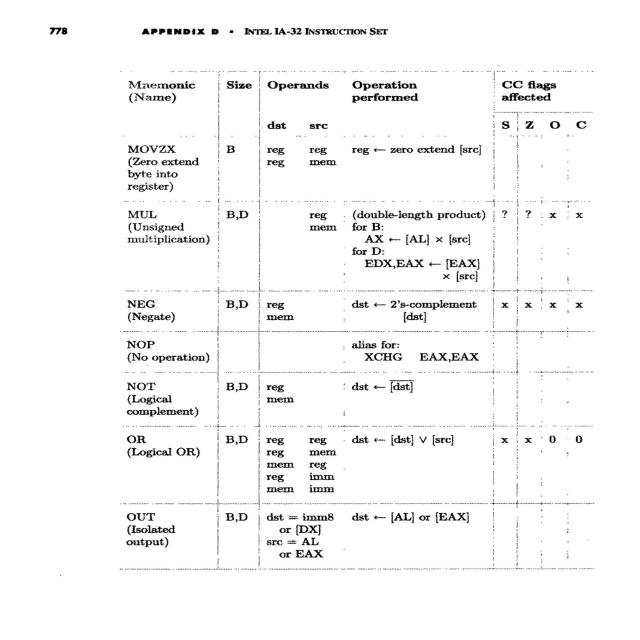diagram: (96, 51, 606, 628)
